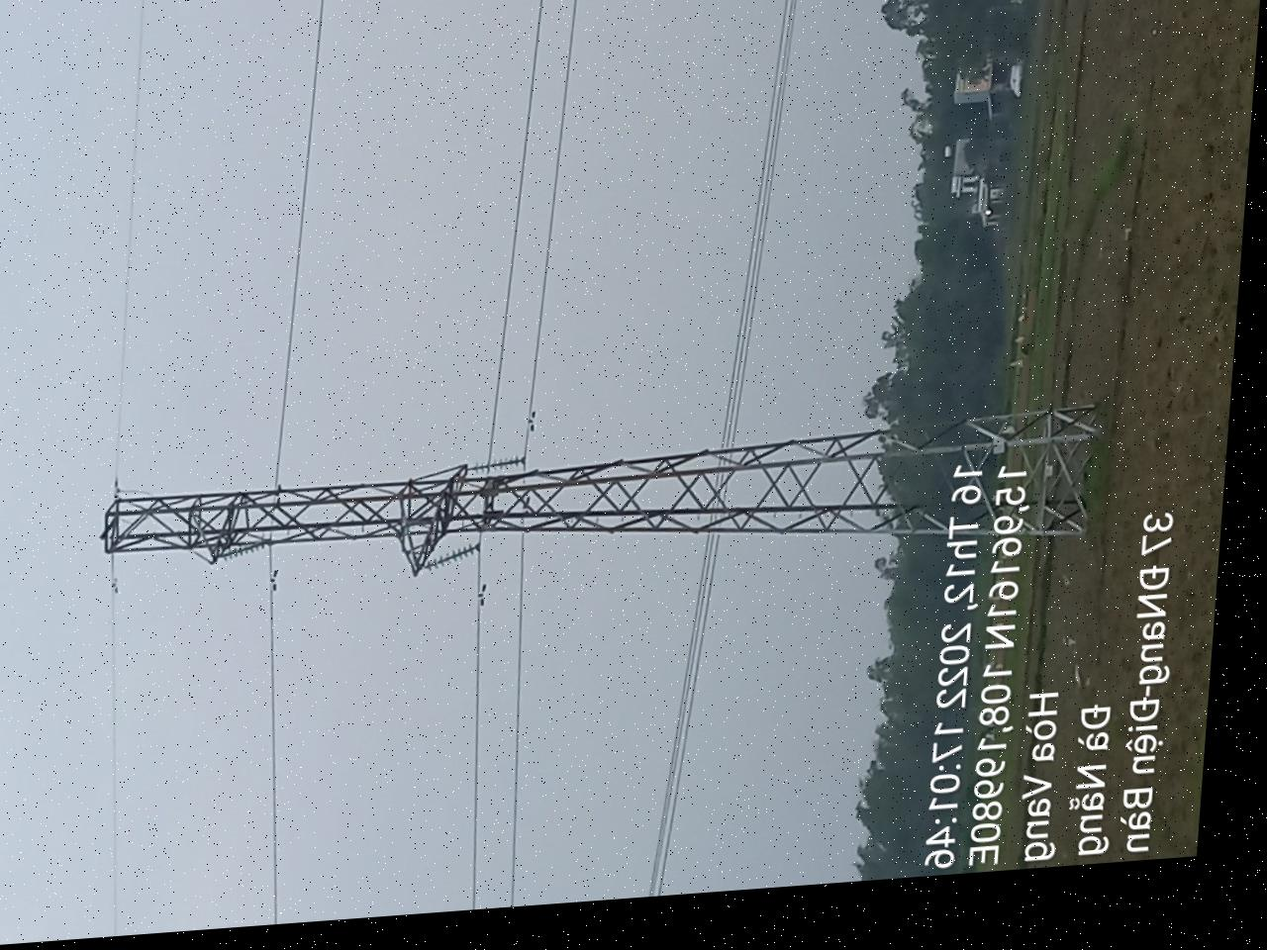tower: (422, 0, 616, 769)
